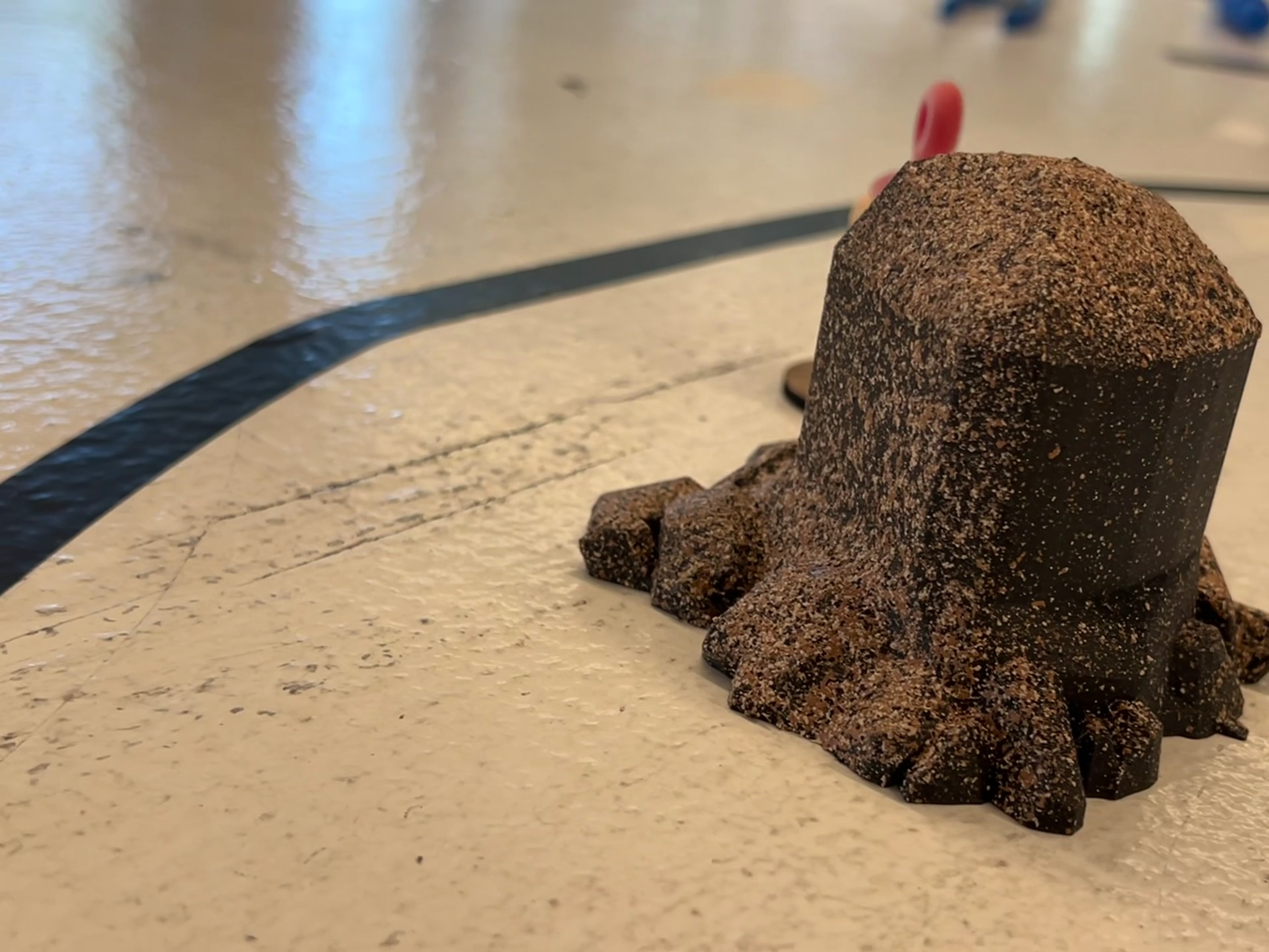teletubby: (910, 81, 963, 161), (850, 173, 896, 223)
